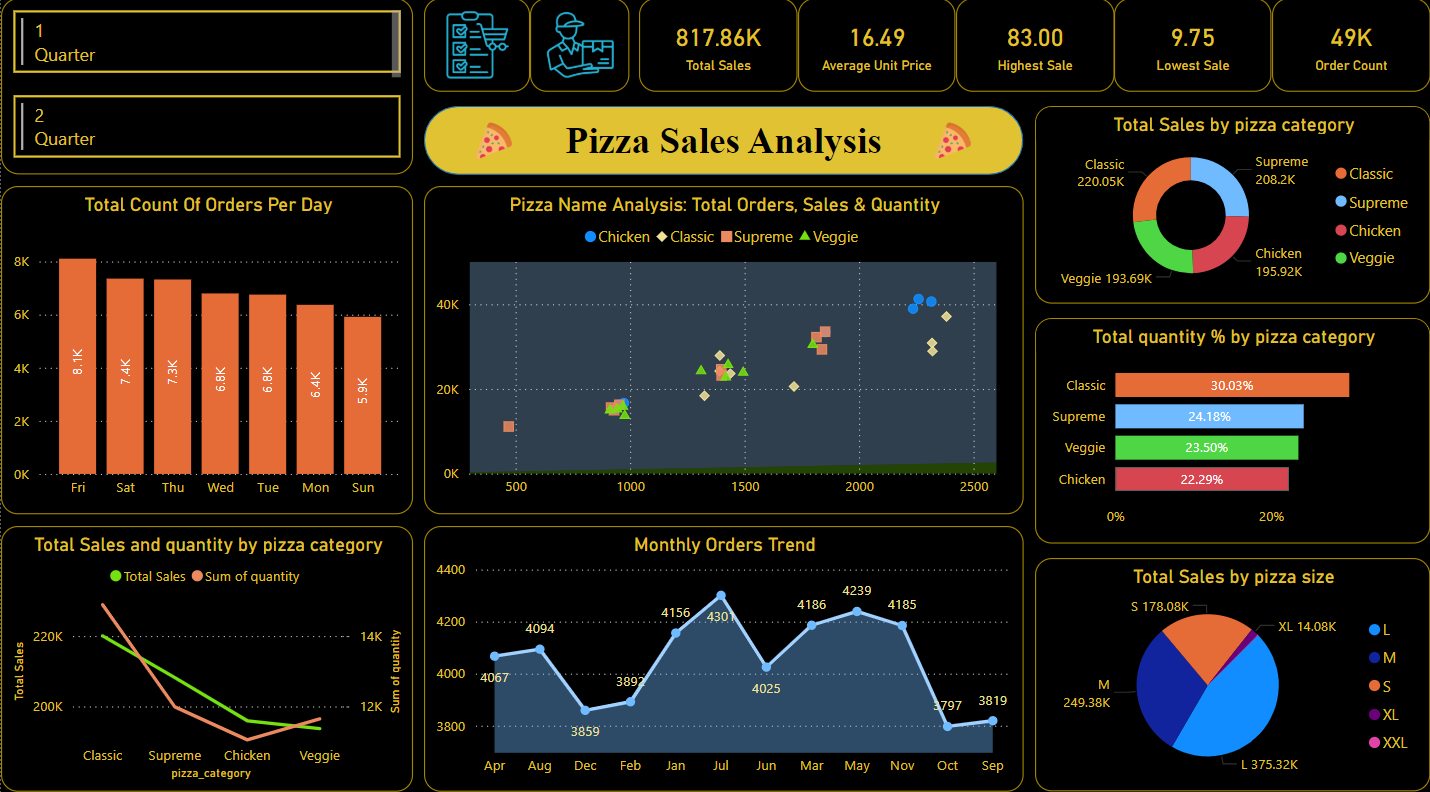

This screenshot's page, from the dashboard's own definition file:
{"tool":"powerbi","page":{"name":"Pizza Sales 2015","canvas":[1280,720],"ordinal":0},"visuals":[{"type":"card","fields":{"Values":["pizza_sales.Total Sales"]},"box":[571.5,0,142.1,83.7],"z":0},{"type":"card","fields":{"Values":["pizza_sales.Average Unit Price"]},"box":[713.6,0,141.1,83.7],"z":1000},{"type":"card","fields":{"Values":["pizza_sales.Max Sale"]},"box":[854.9,0,141.7,83.6],"z":2000},{"type":"card","fields":{"Values":["pizza_sales.Min Sale"]},"box":[996.8,0,141.1,83.7],"z":3000},{"type":"card","fields":{"Values":["pizza_sales.Order Count"]},"box":[1137.9,0,142.1,83.7],"z":4000},{"type":"donutChart","title":"Total Sales by pizza category","fields":{"Category":["pizza_sales.pizza_category"],"Y":["pizza_sales.Total Sales"]},"box":[925.7,96.4,354.3,176.6],"z":5000},{"type":"barChart","title":"Total quantity % by pizza category","fields":{"Category":["pizza_sales.pizza_category"],"Y":["pizza_sales.Total quantity percentage"]},"box":[925.7,286.9,354.3,202.1],"z":6000},{"type":"lineChart","title":"Monthly Orders Trend","fields":{"Category":["pizza_sales.Month Name"],"Y":["pizza_sales.Order Count"]},"box":[378.7,472.7,536.6,238.1],"z":7000},{"type":"donutChart","title":"Total Sales by pizza size","fields":{"Category":["pizza_sales.pizza_size"],"Y":["pizza_sales.Total Sales"]},"box":[925.7,501.8,354.3,209.1],"z":8000},{"type":"scatterChart","title":"Pizza Name Analysis: Total Orders, Sales & Quantity","fields":{"X":["pizza_sales.Order Count"],"Series":["pizza_sales.pizza_category"],"Category":["pizza_sales.pizza_name","pizza_sales.quantity"],"Y":["pizza_sales.Total Sales"]},"box":[378.7,168.4,536.6,293.9],"z":9000},{"type":"lineChart","title":"Total Sales and quantity by pizza category","fields":{"Y":["pizza_sales.Total Sales"],"Y2":["Sum(pizza_sales.quantity)"],"Category":["pizza_sales.pizza_category"]},"box":[0,472.7,369.4,238.1],"z":10000},{"type":"shape","box":[378.7,96.4,536.6,61.6],"z":11000},{"type":"image","box":[399.6,105.7,84.8,44.1],"z":12000},{"type":"image","box":[810.7,105.7,84.8,44.1],"z":13000},{"type":"multiRowCard","fields":{"Values":["Date Master.Quarter"]},"box":[0,0,369.4,158],"z":14000},{"type":"columnChart","title":"Total Count Of Orders Per Day","fields":{"Category":["pizza_sales.Day Name"],"Y":["pizza_sales.Order Count"]},"box":[0,168.4,369.4,293.9],"z":15000},{"type":"image","box":[473.9,0,89.4,83.6],"z":16000},{"type":"image","box":[378.7,0,95.2,83.6],"z":17000}]}

Visuals, with their boxes in screenshot pixels (x1, y1, x2, y2), scaled from the page's 1280x720 canvas onto the 1430x792 screenshot:
card - pizza_sales.Total Sales: 638 0 797 92
card - pizza_sales.Average Unit Price: 797 0 955 92
card - pizza_sales.Max Sale: 955 0 1113 92
card - pizza_sales.Min Sale: 1114 0 1271 92
card - pizza_sales.Order Count: 1271 0 1429 92
"Total Sales by pizza category" donutChart: 1034 106 1429 300
"Total quantity % by pizza category" barChart: 1034 316 1429 538
"Monthly Orders Trend" lineChart: 423 520 1023 782
"Total Sales by pizza size" donutChart: 1034 552 1429 782
"Pizza Name Analysis: Total Orders, Sales & Quantity" scatterChart: 423 185 1023 509
"Total Sales and quantity by pizza category" lineChart: 0 520 413 782
shape: 423 106 1023 174
image: 446 116 541 165
image: 906 116 1000 165
multiRowCard - Date Master.Quarter: 0 0 413 174
"Total Count Of Orders Per Day" columnChart: 0 185 413 509
image: 529 0 629 92
image: 423 0 529 92
